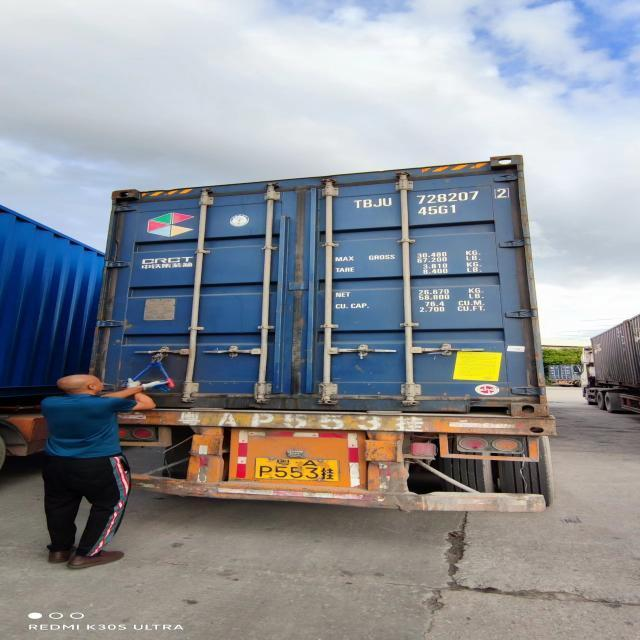ISO: (418, 204, 461, 217)
container_number: (348, 189, 510, 205)
